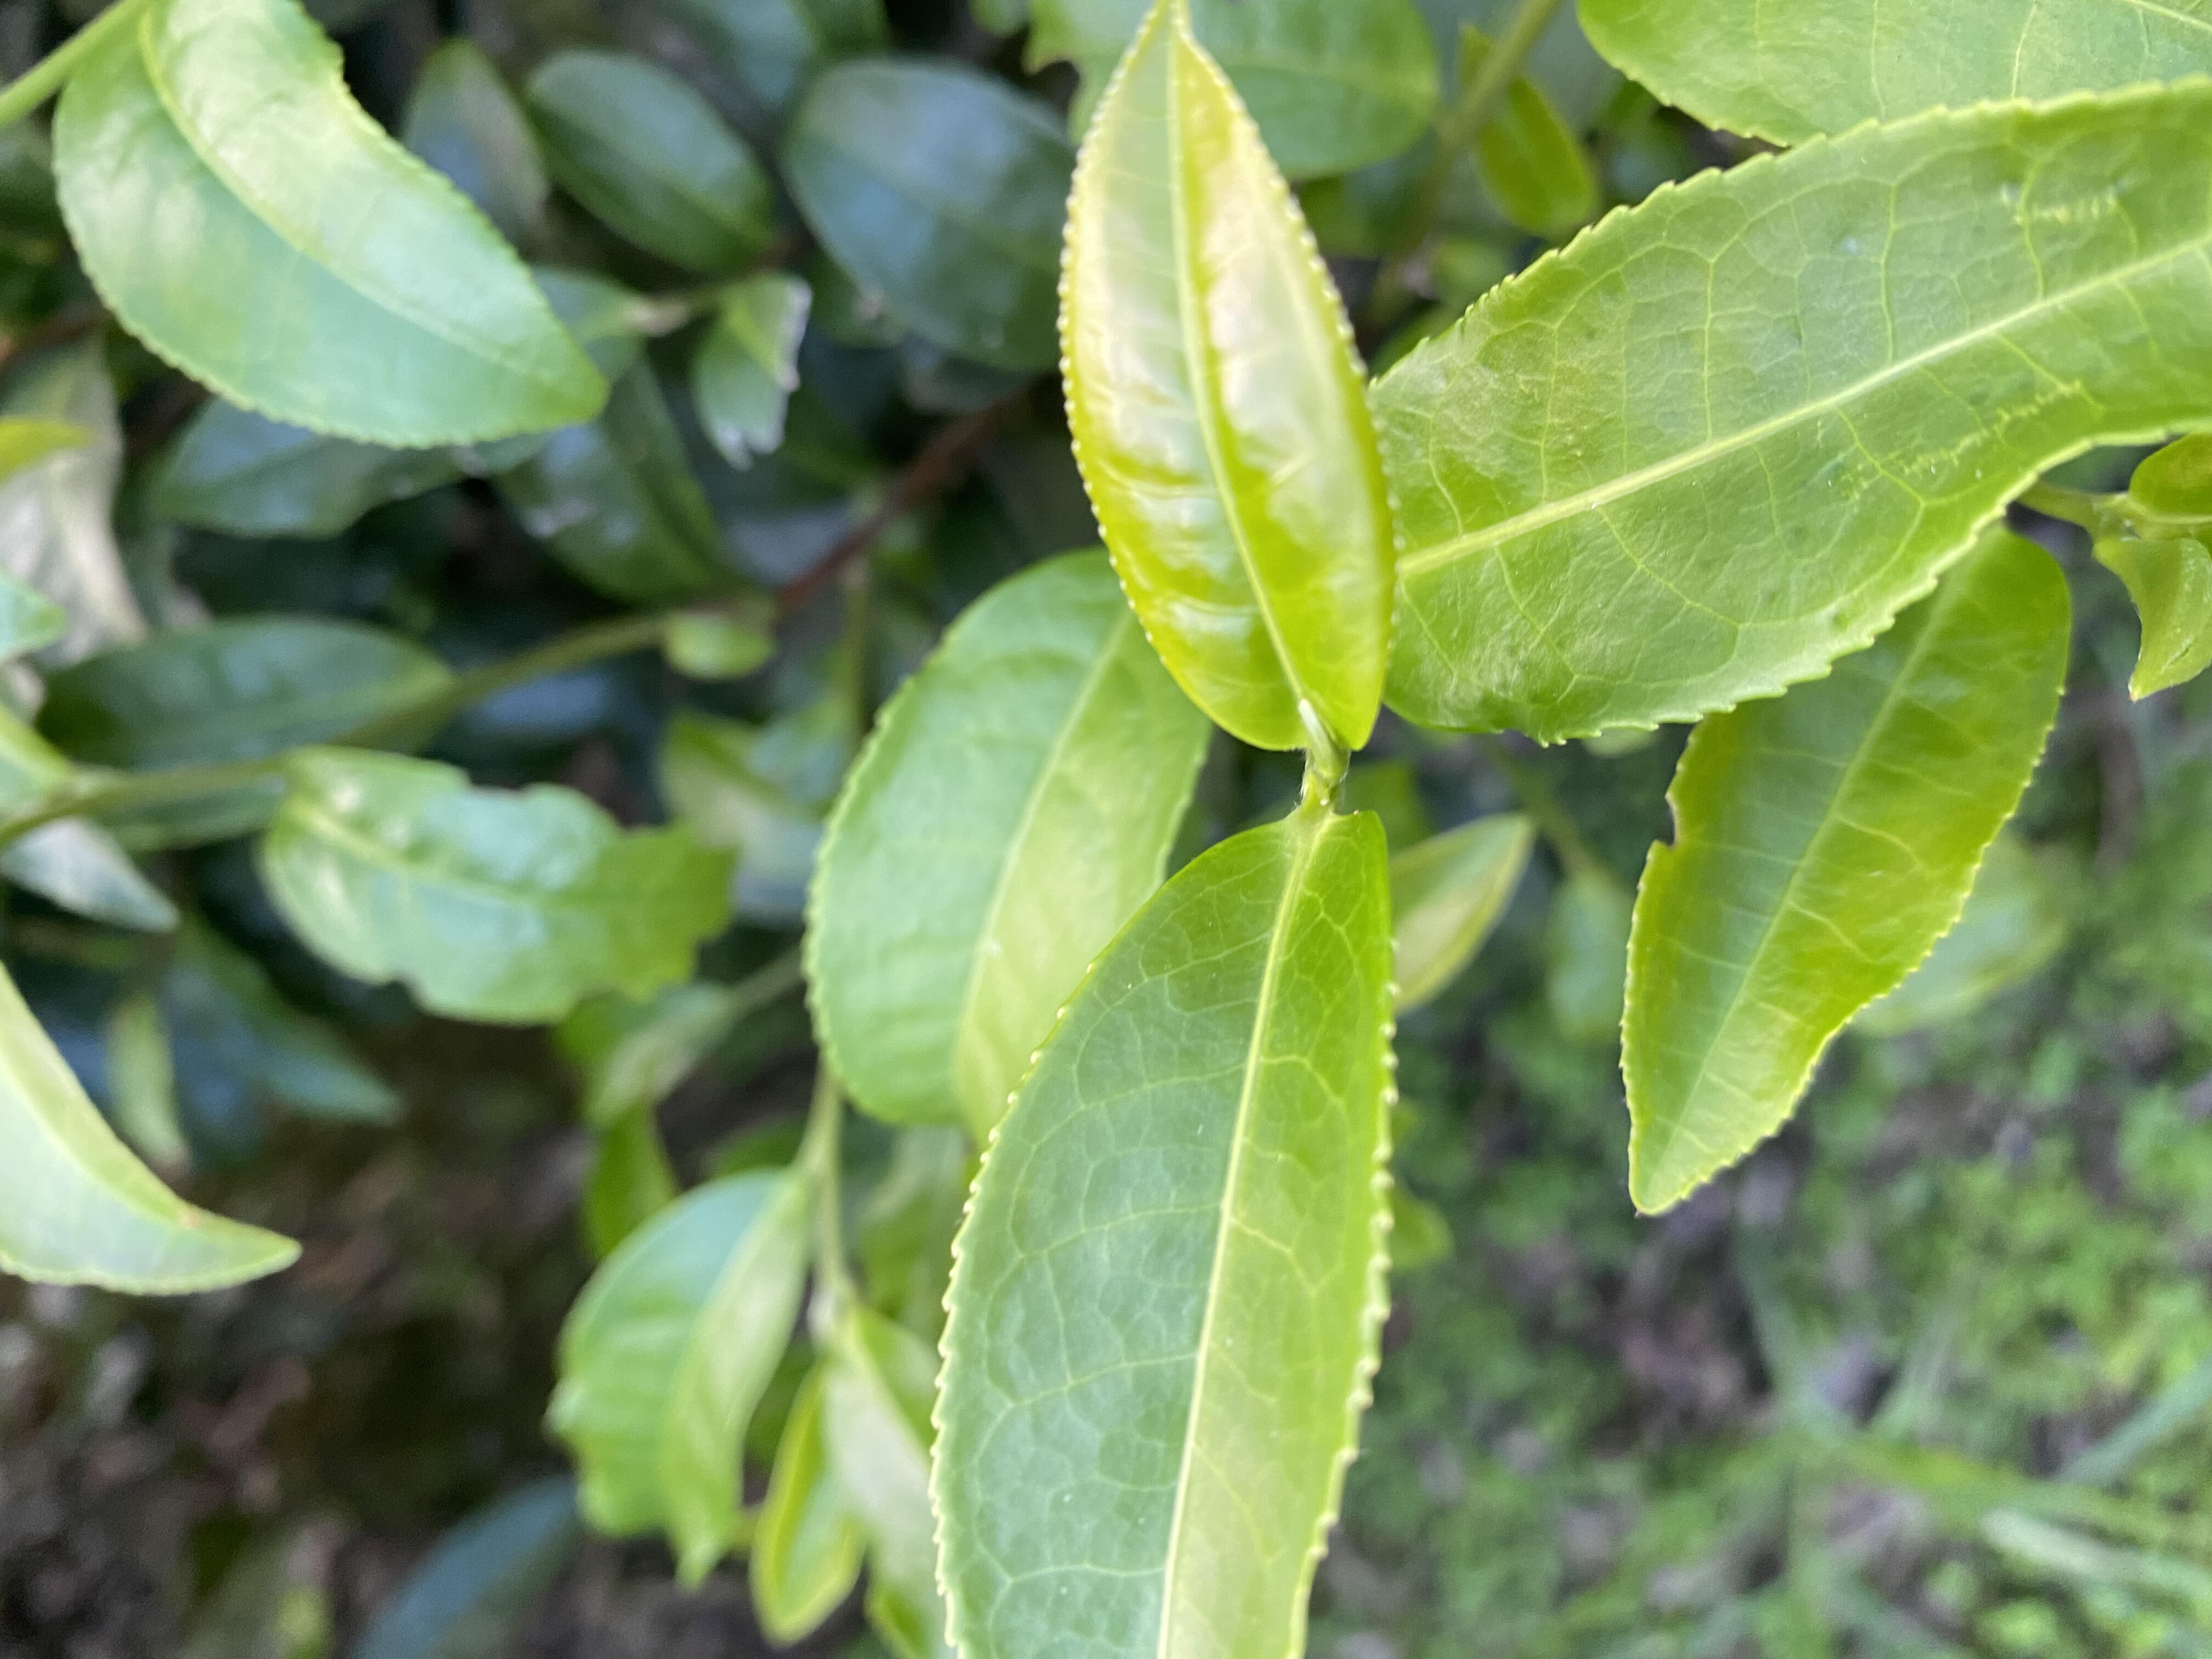chihuo_high: (253, 744, 749, 1030)
chihuo_low: (1615, 526, 2078, 1216)
healthy: (1364, 70, 2209, 753), (921, 798, 1406, 1656), (1049, 5, 1407, 760)
